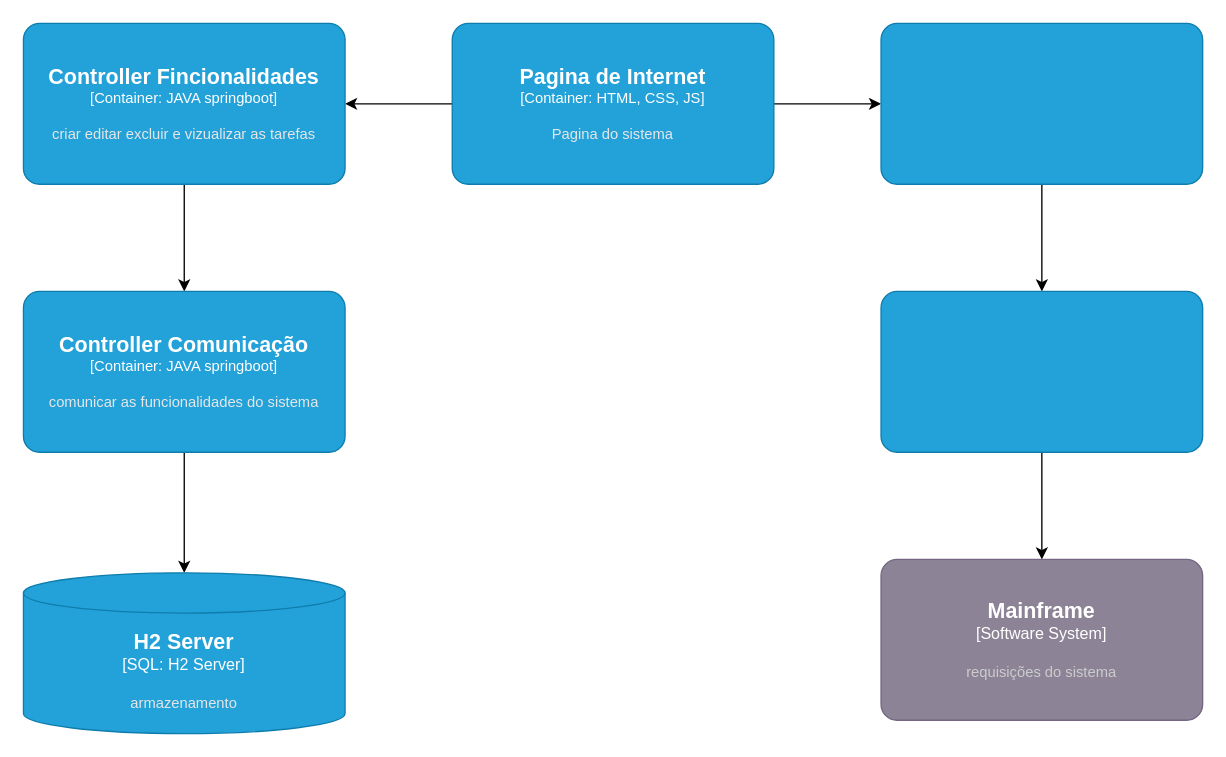
Some shapes in this 1226 by 757 pixel diagram are drawn without their labels. The centre of each missing label's shape, as x and y in pixels:
"Controller Usabilidade [Container: JAVA, Springboot] usabilidade do sistema" goes at point (1041, 103).
"ToDoList [Container: JAVA, Springboot] Fachada para o mainframe" goes at point (1041, 371).
